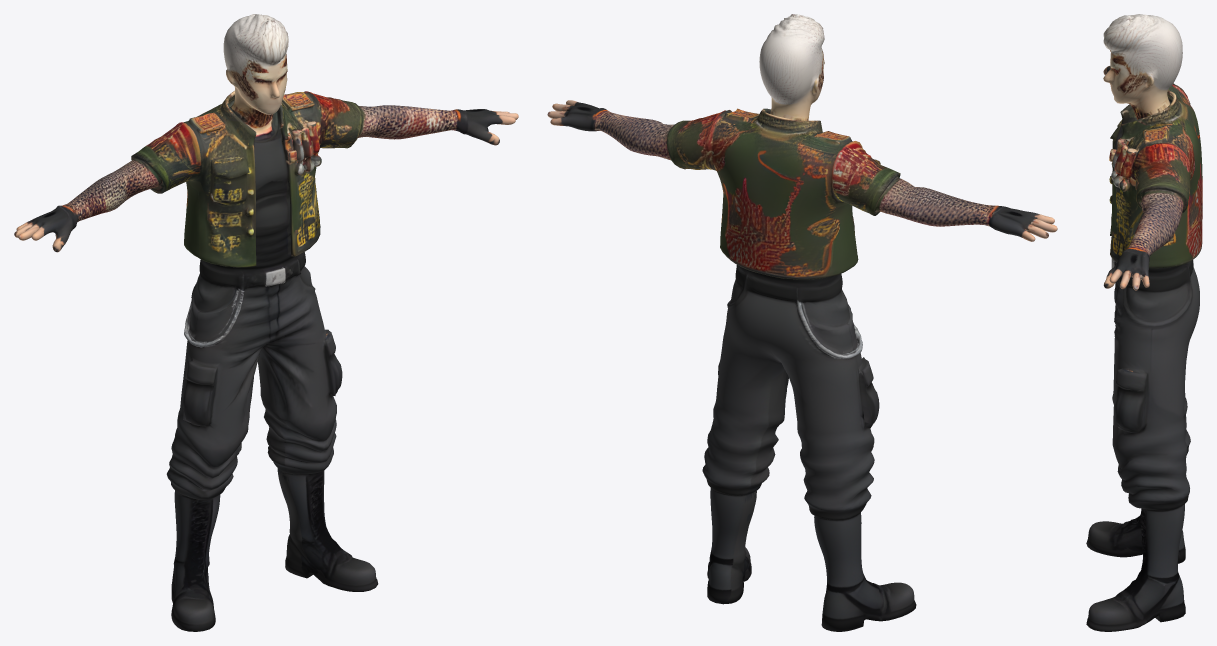
Rendered from base_basic_pbr.fbx.
3 renders of one model, left to right at view 1: azimuth 30°, elevation 25°; view 2: azimuth 150°, elevation 25°; view 3: azimuth 270°, elevation 25°, orthographic.
Parts seen in each view (by area): view 1: model; view 2: model; view 3: model.
Part boxes in pixels (x1,y1,x2,y2): model: (14,14,518,631); model: (547,14,1057,631); model: (1086,14,1202,631).
Size of the model in its own units: 167 by 184 by 33.85.
Materials: 1 (1 with a texture image).
